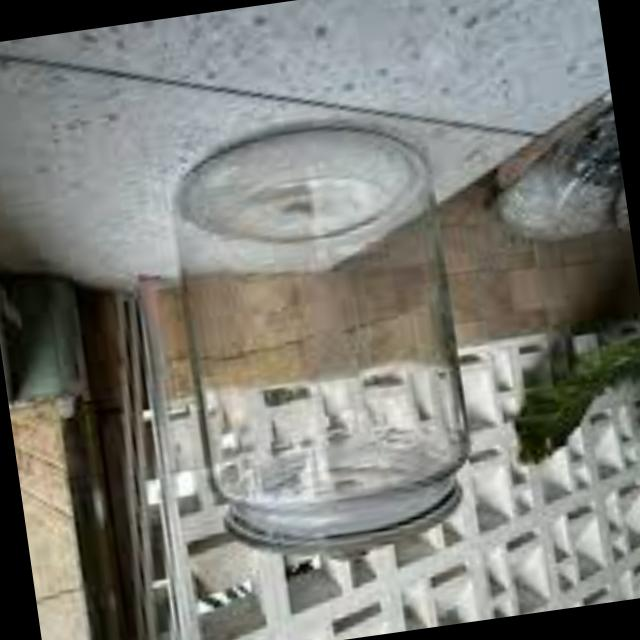ToplesKaca: (174, 117, 490, 562)
